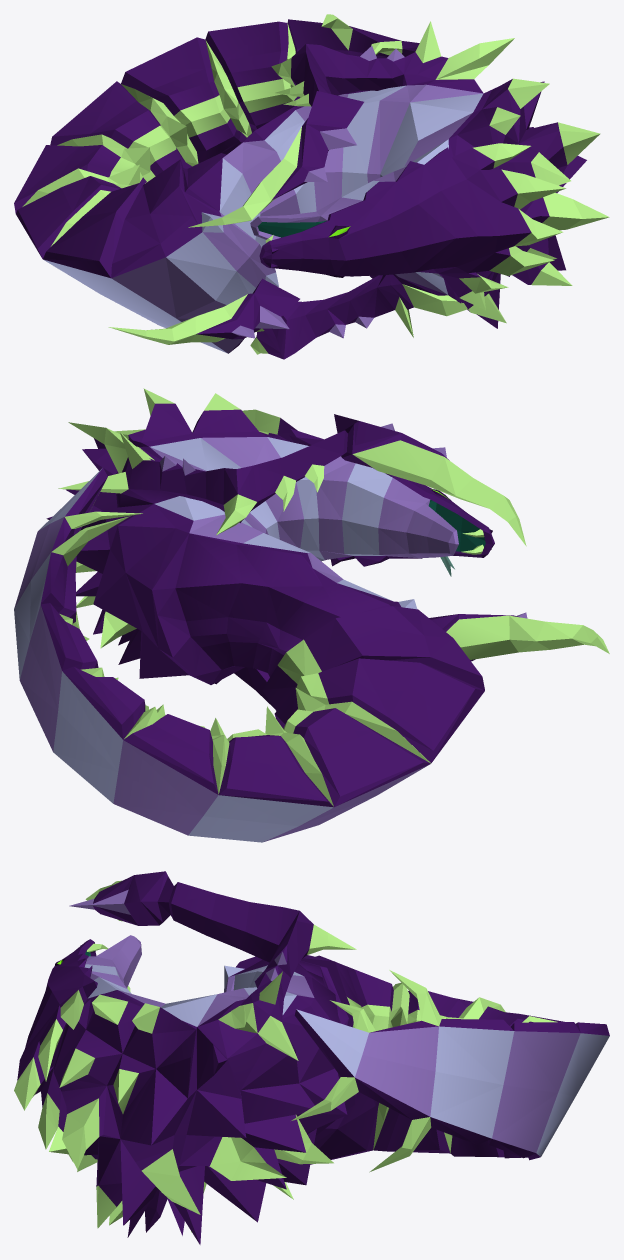
File: Dead (25).obj
3 views of the same model, one above another, from view 1: azimuth 30°, elevation 25°; view 2: azimuth 150°, elevation 25°; view 3: azimuth 270°, elevation 25° (orthographic). The views are drawn at different scales.
Parts seen in each view (by area): view 1: Alien_Serpent; view 2: Alien_Serpent; view 3: Alien_Serpent.
Part boxes in pixels (x1,y1,x2,y2): Alien_Serpent: (14, 14, 609, 359); Alien_Serpent: (14, 388, 609, 842); Alien_Serpent: (14, 871, 609, 1244).
Bounding box in the file's own units: 241 × 146 × 240.
